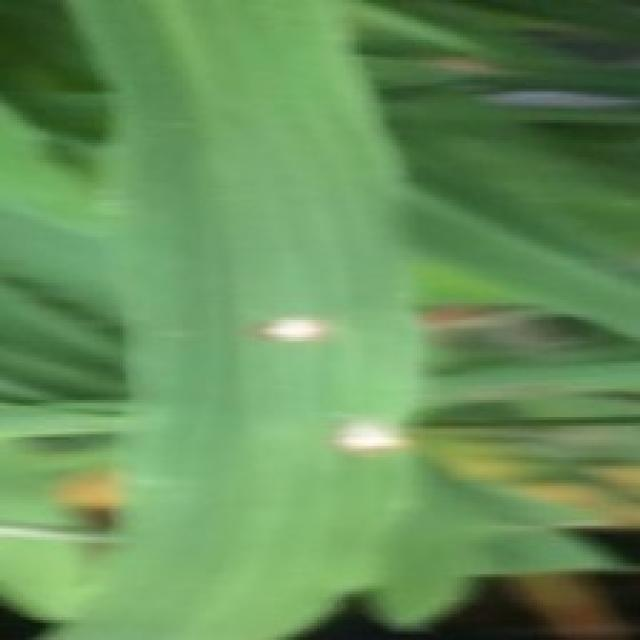Rice___Rice_Blast: (39, 0, 425, 637)
